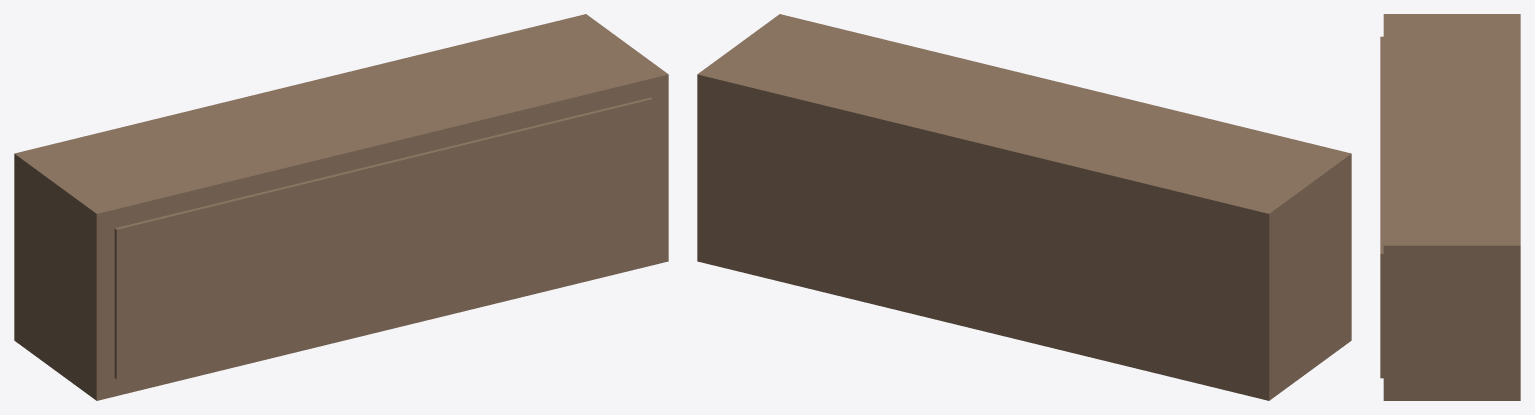
Rendered from tv_console.glb.
The picture shows the model from 3 angles, left to right: view 1: azimuth 30°, elevation 25°; view 2: azimuth 150°, elevation 25°; view 3: azimuth 270°, elevation 25°; orthographic projection. The views are drawn at different scales.
Bounding box in the file's own units: 1600 × 500 × 410.
